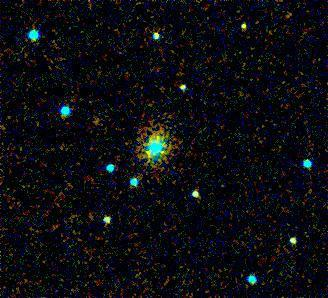star: (231, 9, 261, 39)
